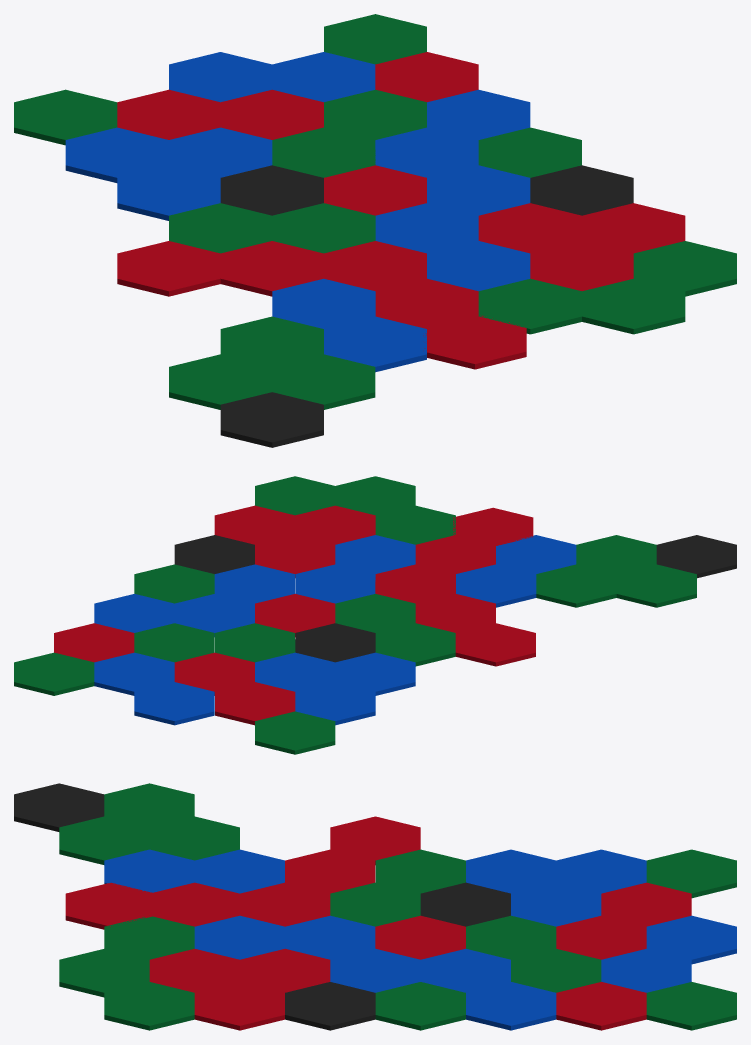
File: Level1_Hexmap.FBX
The picture shows the model from 3 angles, top to bottom: view 1: azimuth 30°, elevation 25°; view 2: azimuth 150°, elevation 25°; view 3: azimuth 270°, elevation 25°; orthographic projection. The views are drawn at different scales.
Visible parts, largest first — view 1: Cylinder126, Cylinder106, Cylinder110, Cylinder127, Cylinder102, Cylinder092, Cylinder134, Cylinder133, Cylinder098, Cylinder128, Cylinder096, Cylinder131 (+28 smaller); view 2: Cylinder101, Cylinder132, Cylinder134, Cylinder098, Cylinder115, Cylinder110, Cylinder092, Cylinder095, Cylinder096, Cylinder113, Cylinder130, Cylinder112 (+28 smaller); view 3: Cylinder093, Cylinder128, Cylinder116, Cylinder122, Cylinder115, Cylinder119, Cylinder120, Cylinder098, Cylinder126, Cylinder101, Cylinder133, Cylinder106 (+28 smaller).
Part boxes in pixels (<box>): Cylinder126: <box>582,278,685,334</box>; Cylinder106: <box>220,392,323,447</box>; Cylinder110: <box>117,241,220,296</box>; Cylinder127: <box>478,278,581,334</box>; Cylinder102: <box>220,241,323,296</box>; Cylinder092: <box>65,127,168,182</box>; Cylinder134: <box>169,354,272,409</box>; Cylinder133: <box>272,354,375,409</box>; Cylinder098: <box>14,89,117,145</box>; Cylinder128: <box>633,241,736,296</box>; Cylinder096: <box>117,165,220,220</box>; Cylinder131: <box>324,316,426,372</box>; Cylinder101: <box>134,682,214,725</box>; Cylinder132: <box>536,564,616,607</box>; Cylinder134: <box>616,564,696,607</box>; Cylinder098: <box>255,711,335,754</box>; Cylinder115: <box>14,652,94,695</box>; Cylinder110: <box>455,623,535,666</box>; Cylinder092: <box>295,682,375,725</box>; Cylinder095: <box>94,652,174,695</box>; Cylinder096: <box>335,652,415,695</box>; Cylinder113: <box>375,623,455,666</box>; Cylinder130: <box>456,564,536,607</box>; Cylinder112: <box>215,682,295,725</box>; Cylinder093: <box>556,982,646,1030</box>; Cylinder128: <box>104,982,194,1030</box>; Cylinder116: <box>466,982,556,1030</box>; Cylinder122: <box>194,982,284,1030</box>; Cylinder115: <box>646,982,736,1030</box>; Cylinder119: <box>375,982,465,1030</box>; Cylinder120: <box>285,982,375,1030</box>; Cylinder098: <box>646,849,736,898</box>; Cylinder126: <box>59,948,149,997</box>; Cylinder101: <box>646,915,736,964</box>; Cylinder133: <box>59,816,149,864</box>; Cylinder106: <box>14,783,104,831</box>.
Size of the model in its own units: 11 by 0.1 by 13.86.
